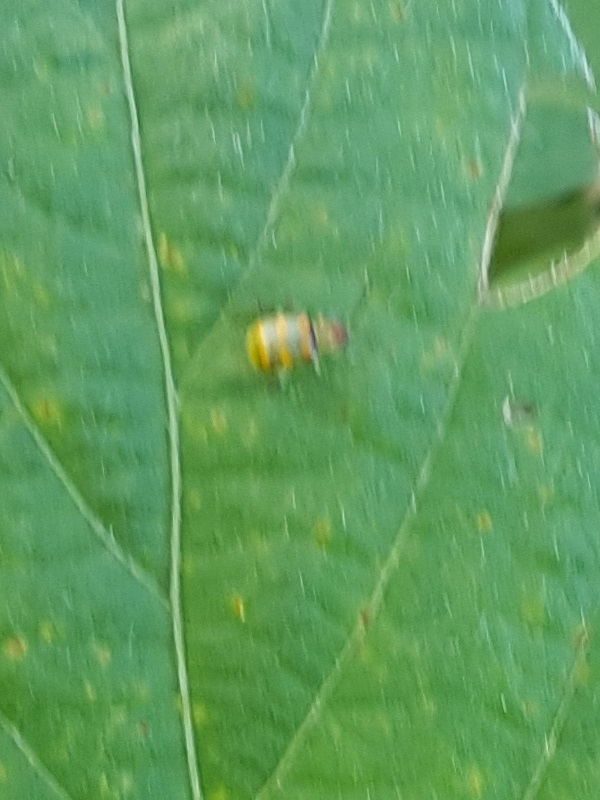Diabrotica_speciosa: (227, 287, 361, 402)
